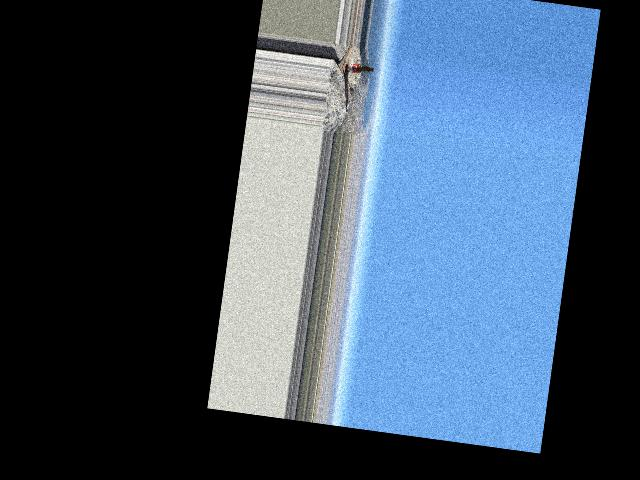beer: (345, 62, 373, 75)
